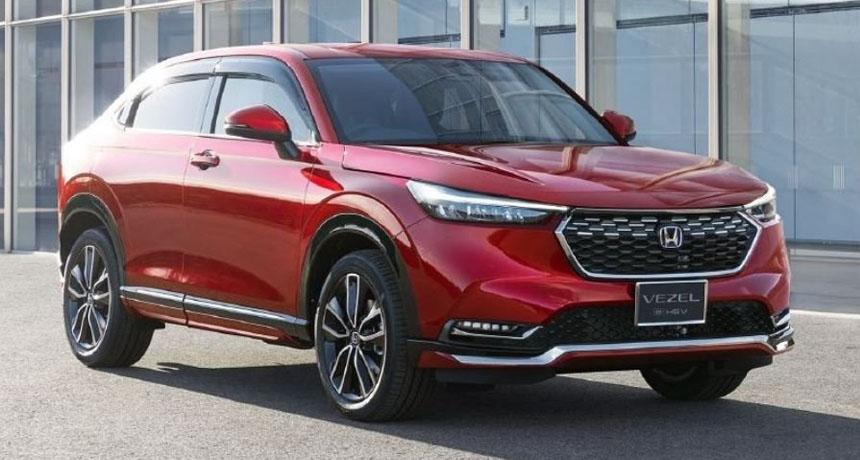windshield: (299, 54, 630, 155)
